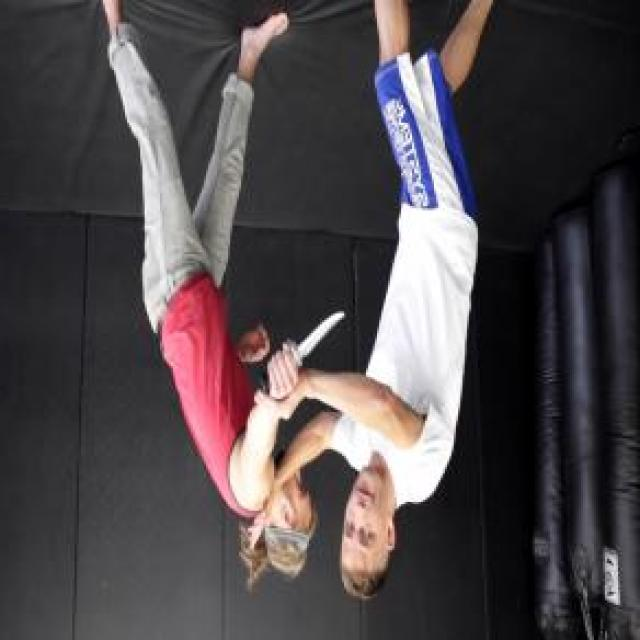knife: (256, 302, 348, 399)
